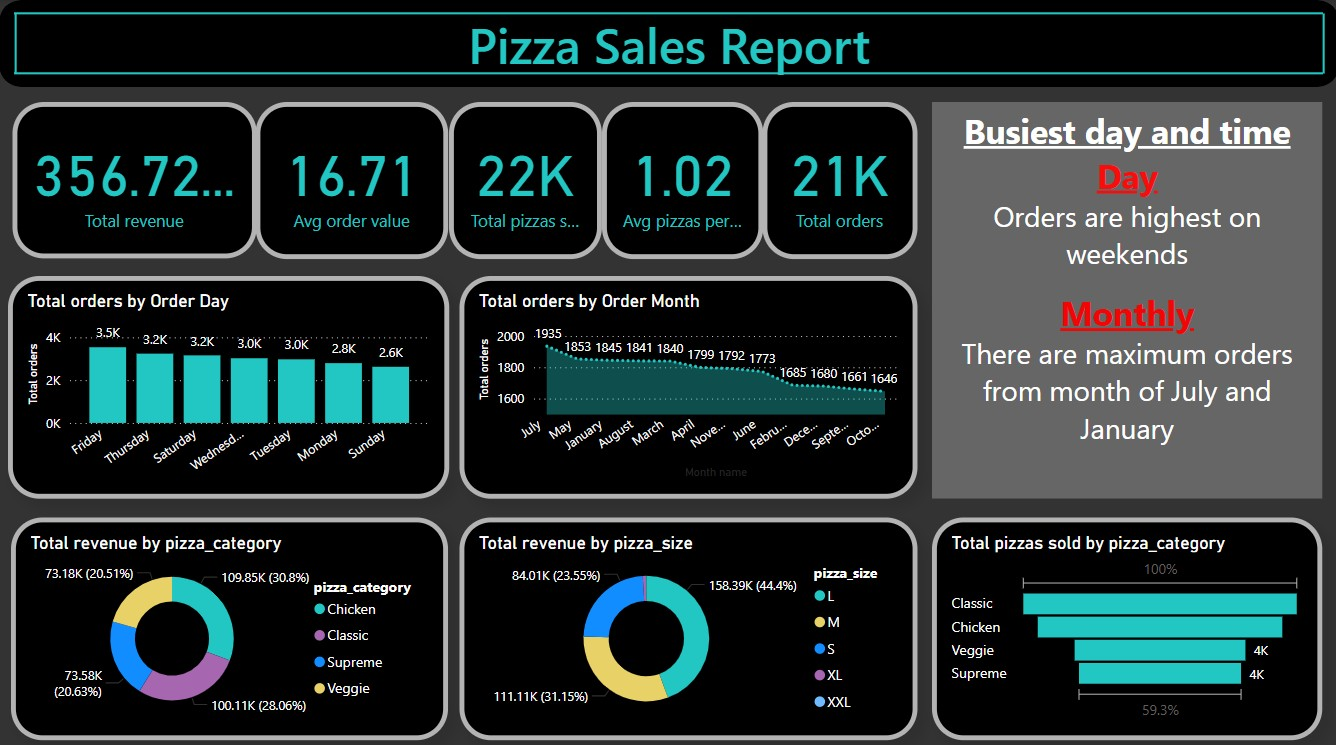

This screenshot's page, from the dashboard's own definition file:
{"tool":"powerbi","page":{"name":"Page 1","canvas":[1280,720],"ordinal":0},"visuals":[{"type":"shape","title":"Pizza Sales Report","box":[0,0,1280,83],"z":0},{"type":"card","fields":{"Values":["pizza_sales.Total revenue"]},"box":[12.6,97.7,233.1,149.6],"z":1000},{"type":"card","fields":{"Values":["pizza_sales.Avg order value"]},"box":[245.1,97.2,184.3,149.9],"z":2000},{"type":"card","fields":{"Values":["pizza_sales.Total pizzas sold"]},"box":[429.4,97.2,145.8,149.9],"z":3000},{"type":"card","fields":{"Values":["pizza_sales.Avg pizzas per order"]},"box":[575.2,97.2,153.9,149.9],"z":4000},{"type":"card","fields":{"Values":["pizza_sales.Total orders"]},"box":[729.1,97.2,147.8,149.9],"z":5000},{"type":"columnChart","fields":{"Category":["pizza_sales.Order Day"],"Y":["pizza_sales.Total orders"]},"box":[8.1,263.3,421.3,212.7],"z":6000},{"type":"stackedAreaChart","fields":{"Y":["pizza_sales.Total orders"],"Category":["pizza_sales.Order Month"]},"box":[439.5,263.3,437.5,212.7],"z":7000},{"type":"donutChart","fields":{"Y":["pizza_sales.Total revenue"],"Category":["pizza_sales.pizza_category"]},"box":[12.2,494.2,417.2,212.7],"z":8000},{"type":"donutChart","fields":{"Y":["pizza_sales.Total revenue"],"Category":["pizza_sales.pizza_size"]},"box":[439.5,494.2,437.5,212.7],"z":9000},{"type":"funnel","fields":{"Y":["pizza_sales.Total pizzas sold"],"Category":["pizza_sales.pizza_category"]},"box":[891.1,494.2,372.7,212.7],"z":10000},{"type":"textbox","box":[891.1,97.2,372.7,378.7],"z":11000},{"type":"shape","box":[14.3,57.3,1250.2,25.4],"z":12000},{"type":"shape","box":[14.3,0,1250.2,25.4],"z":13000},{"type":"shape","box":[0,12.7,31.8,57.3],"z":14000},{"type":"shape","box":[1248.6,12.7,31.8,57.3],"z":15000}]}

Visuals, with their boxes in screenshot pixels (x1, y1, x2, y2), scaled from the page's 1280x720 canvas onto the 1336x745 screenshot:
"Pizza Sales Report" shape: left=0, top=0, right=1335, bottom=86
card - pizza_sales.Total revenue: left=13, top=101, right=256, bottom=256
card - pizza_sales.Avg order value: left=256, top=101, right=448, bottom=256
card - pizza_sales.Total pizzas sold: left=448, top=101, right=600, bottom=256
card - pizza_sales.Avg pizzas per order: left=600, top=101, right=761, bottom=256
card - pizza_sales.Total orders: left=761, top=101, right=915, bottom=256
columnChart - pizza_sales.Order Day x pizza_sales.Total orders: left=8, top=272, right=448, bottom=493
stackedAreaChart - pizza_sales.Total orders x pizza_sales.Order Month: left=459, top=272, right=915, bottom=493
donutChart - pizza_sales.Total revenue x pizza_sales.pizza_category: left=13, top=511, right=448, bottom=731
donutChart - pizza_sales.Total revenue x pizza_sales.pizza_size: left=459, top=511, right=915, bottom=731
funnel - pizza_sales.Total pizzas sold x pizza_sales.pizza_category: left=930, top=511, right=1319, bottom=731
textbox: left=930, top=101, right=1319, bottom=492
shape: left=15, top=59, right=1320, bottom=86
shape: left=15, top=0, right=1320, bottom=26
shape: left=0, top=13, right=33, bottom=72
shape: left=1303, top=13, right=1335, bottom=72
